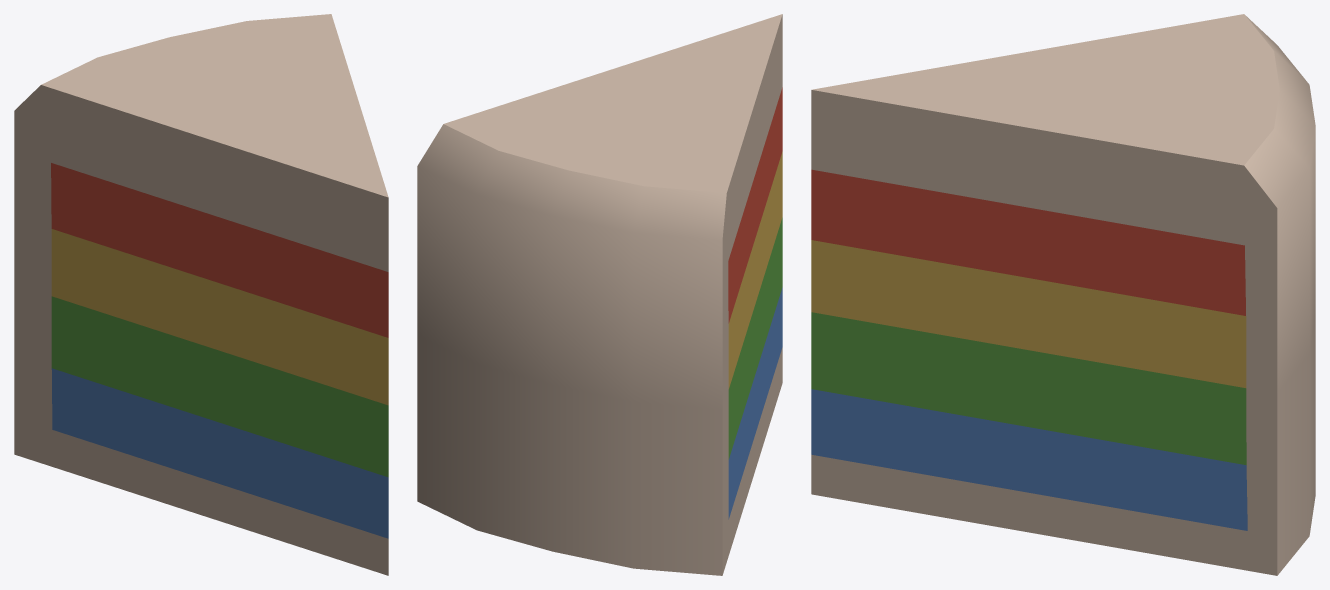
Rendered from RainbowCake_01.fbx.
3 renders of one model, left to right at view 1: azimuth 30°, elevation 25°; view 2: azimuth 150°, elevation 25°; view 3: azimuth 270°, elevation 25°, orthographic. The views are drawn at different scales.
Parts seen in each view (by area): view 1: RainbowCake_01; view 2: RainbowCake_01; view 3: RainbowCake_01.
Part boxes in pixels (left/top/right/bottom): RainbowCake_01: left=14, top=14, right=388, bottom=575; RainbowCake_01: left=417, top=14, right=782, bottom=575; RainbowCake_01: left=811, top=14, right=1315, bottom=575.
Bounding box in the file's own units: 0.1347 × 0.1557 × 0.176.
